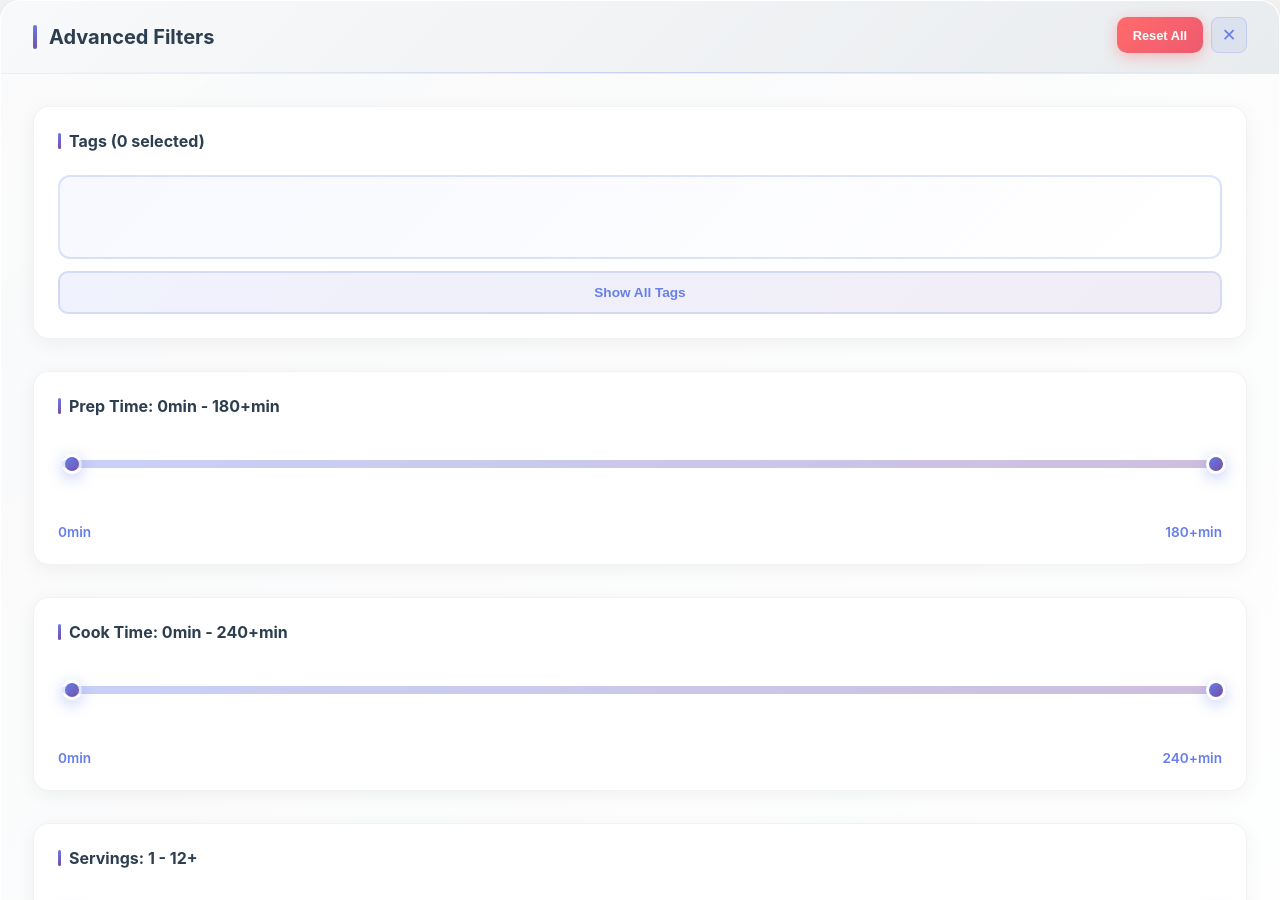
AdvancedSearchFilters › tag selection › should expand tags when "Show All Tags" is clicked
Click the button "Show All Tags": (640, 292) [58,271,1222,314]
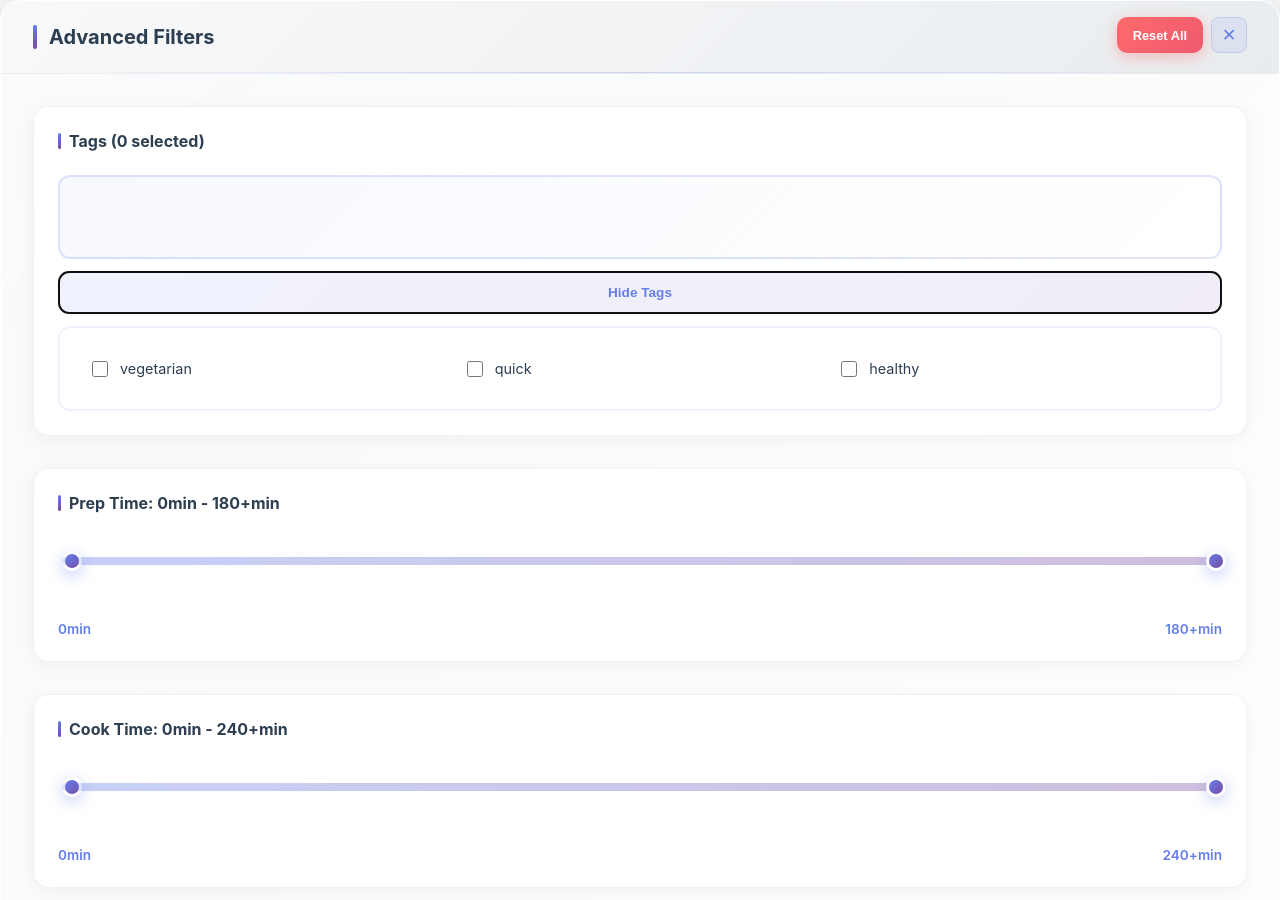
Check: the text "vegetarian" is shown, box [120,360,192,377]
Check: the text "quick" is shown, box [495,360,532,377]
Check: the text "healthy" is shown, box [869,360,919,377]
